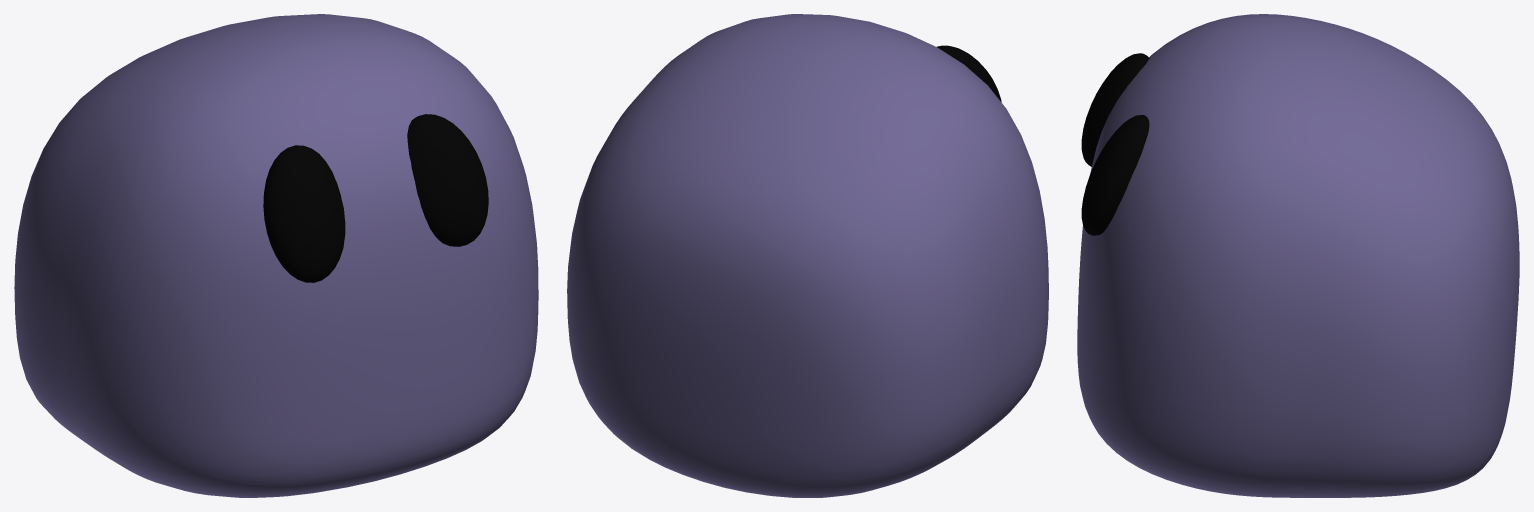
Rendered from Fish_Zol.fbx.
3 renders of one model, left to right at view 1: azimuth 30°, elevation 25°; view 2: azimuth 150°, elevation 25°; view 3: azimuth 270°, elevation 25°, orthographic. The views are drawn at different scales.
Visible parts, largest first — view 1: Zol_Original; view 2: Zol_Original; view 3: Zol_Original.
Part boxes in pixels (x1,y1,x2,y2): Zol_Original: (14,14,538,497); Zol_Original: (567,14,1048,497); Zol_Original: (1077,14,1519,497).
Bounding box in the file's own units: 181 × 165 × 165.
